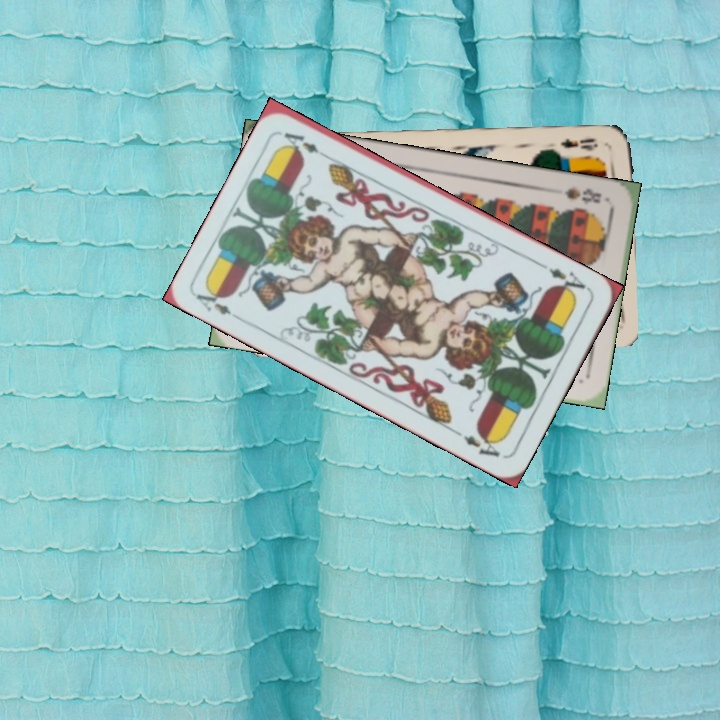EA: (192, 283, 247, 325), (537, 260, 592, 299)
EO: (557, 134, 600, 153)
S8: (561, 182, 604, 207)
